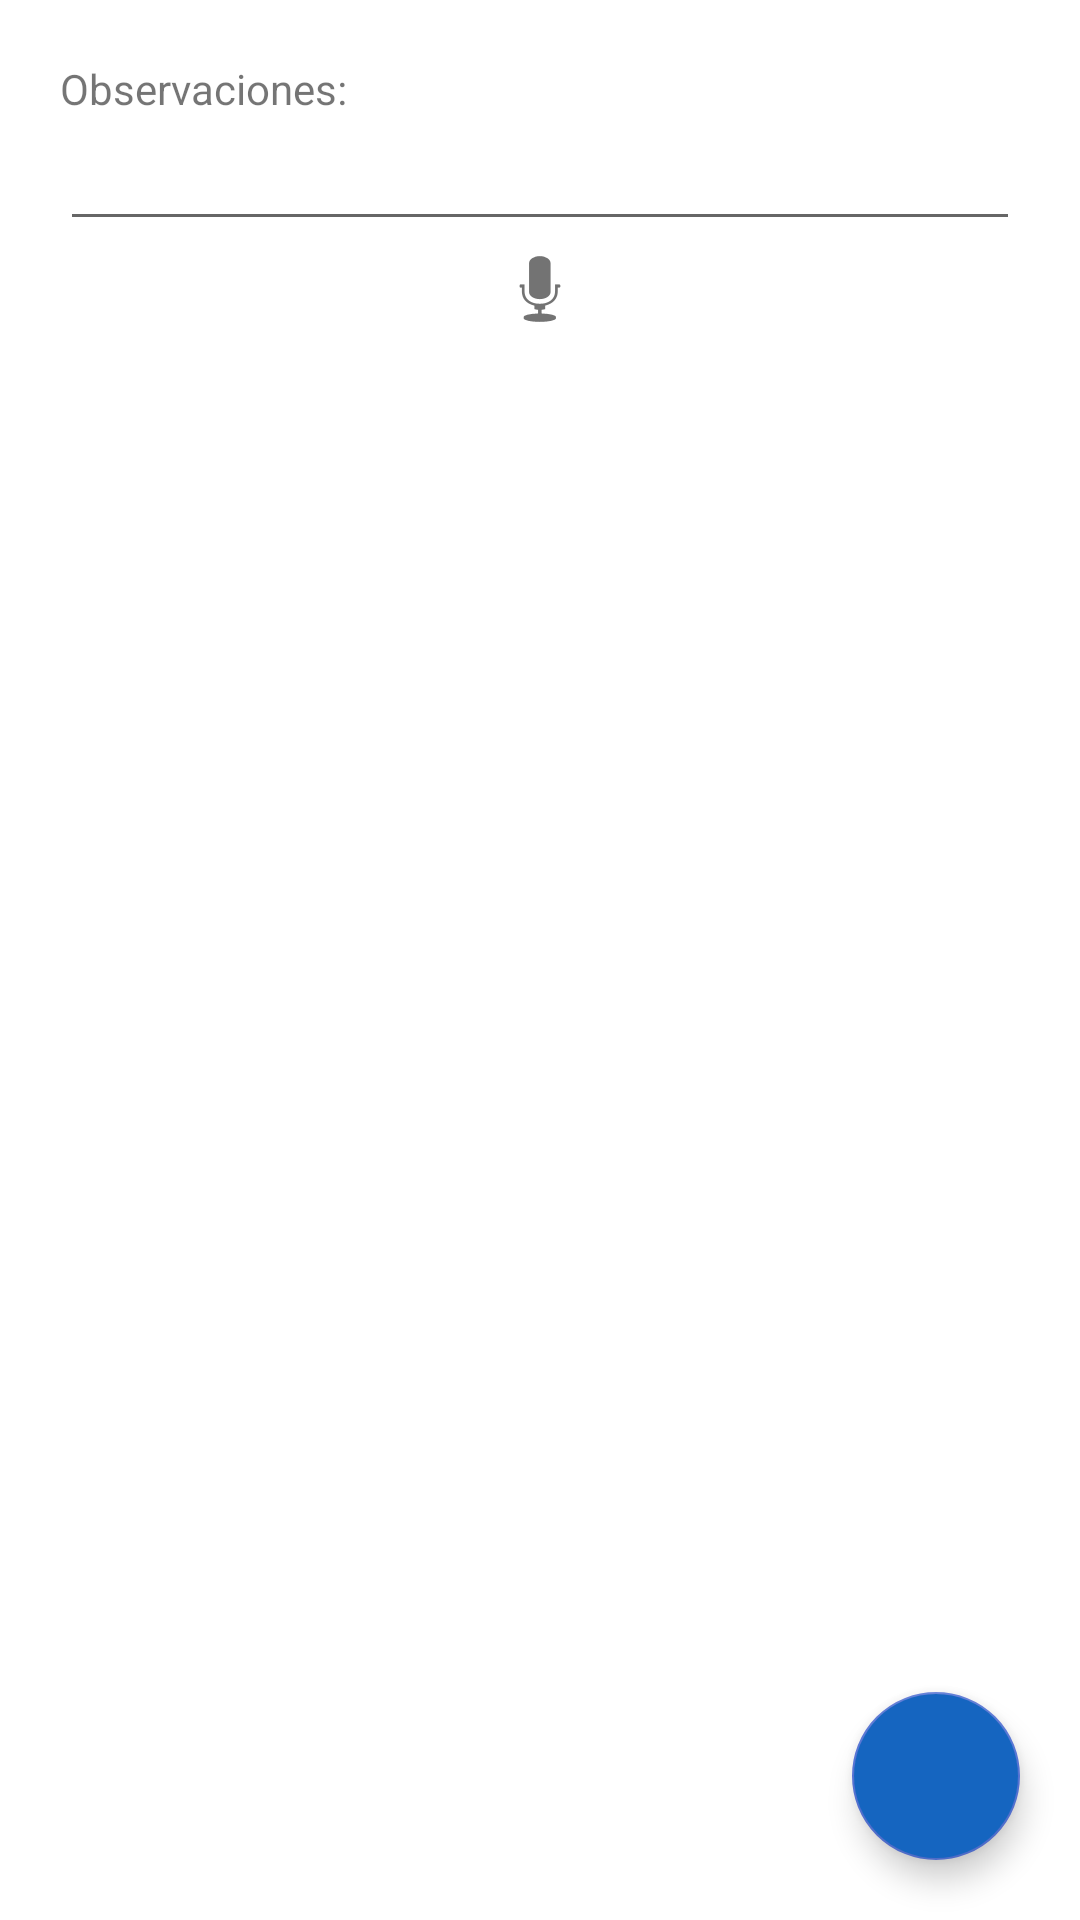

Screen size 1080x1920. Icon name, then its center in pixels as (x=x, y=y):
speak now: (x=540, y=289)
